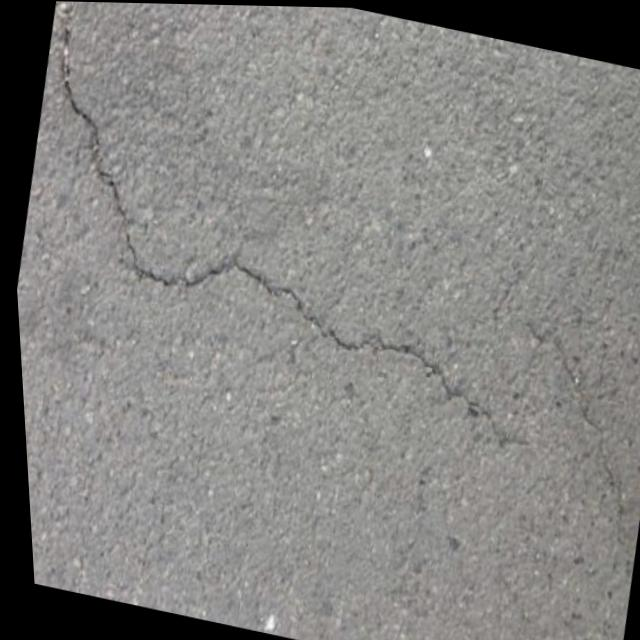Crack: (0, 0, 275, 373), (199, 241, 559, 476)
